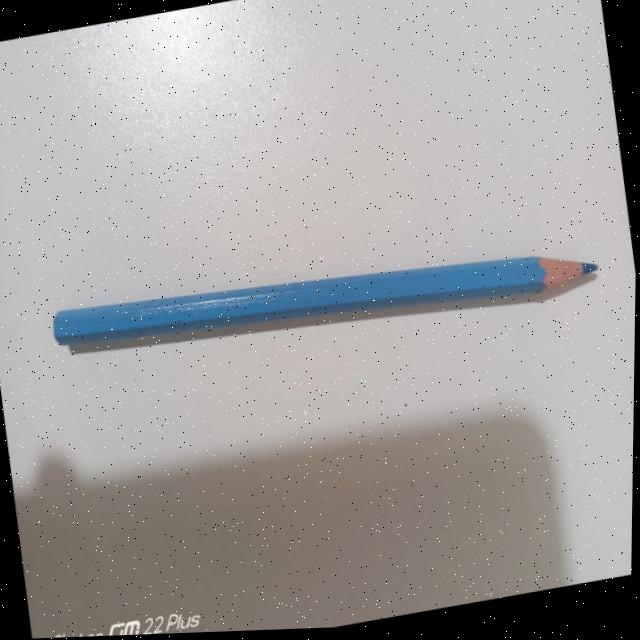pencil: (49, 214, 595, 388)
